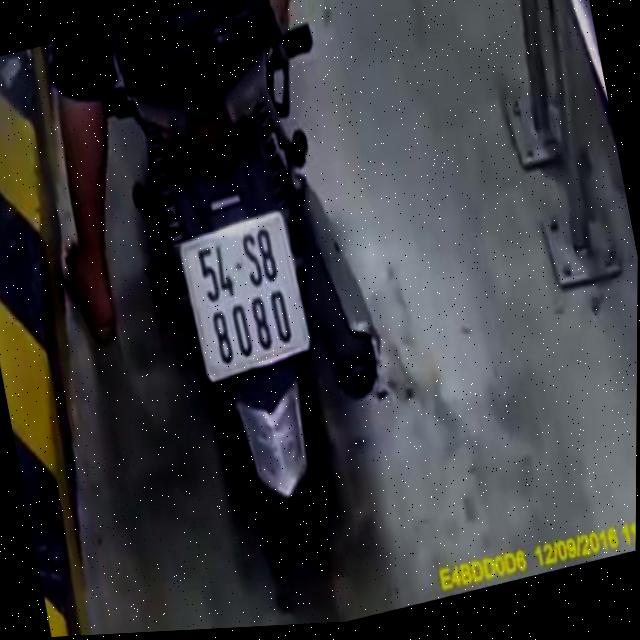motorcycle: (86, 0, 427, 580)
plate: (171, 202, 317, 387)
